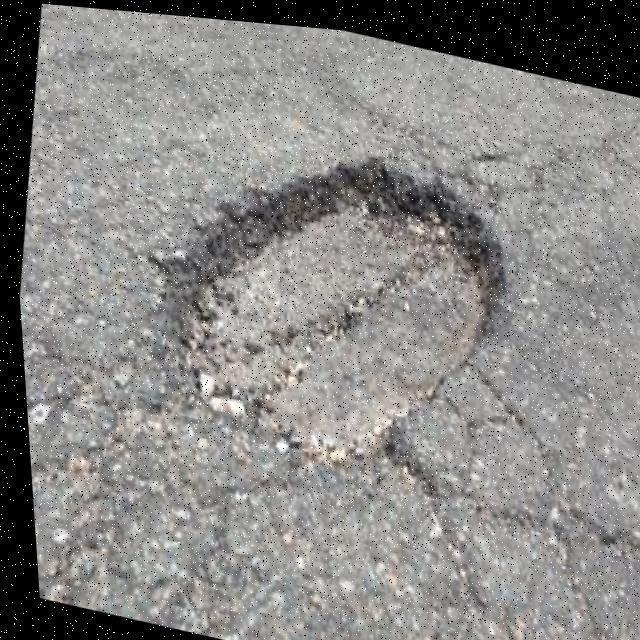Pothole: (146, 151, 500, 461)
